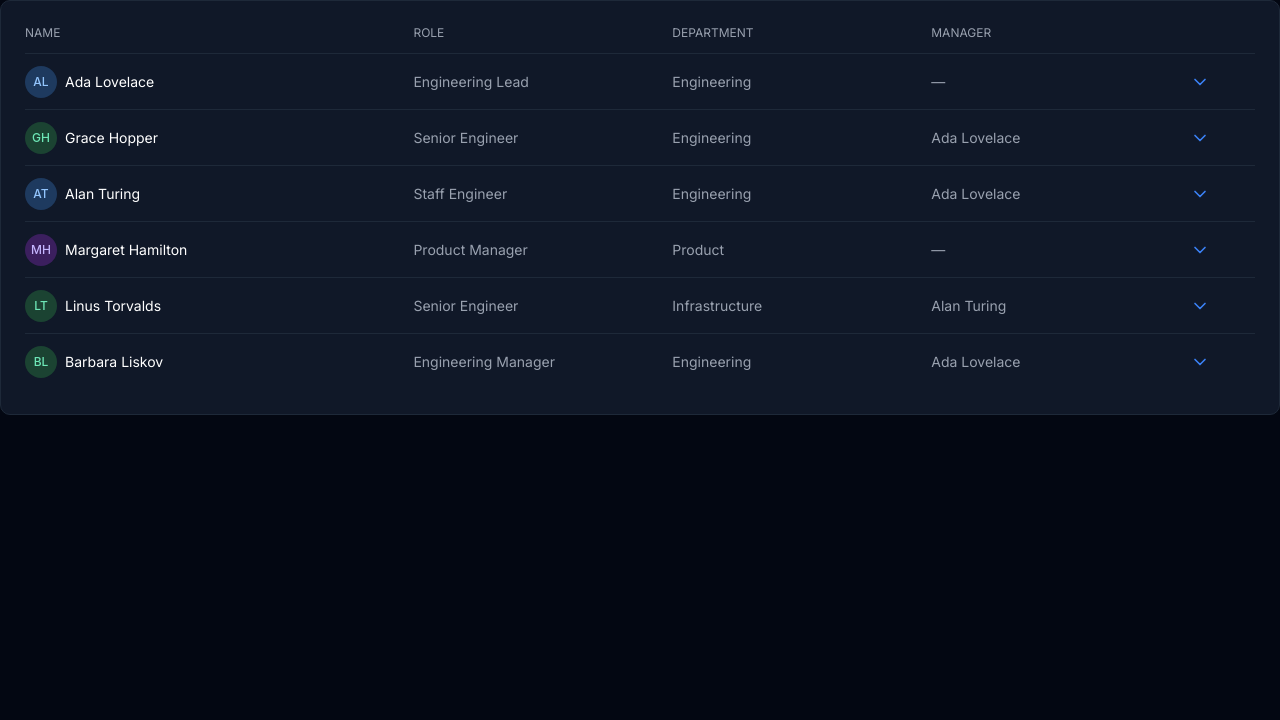
Accordion collapses previously open row when a new row is opened › expanding Grace Hopper collapses Ada Lovelace's panel
Expand Ada Lovelace
Click the button named "Expand Ada Lovelace". click: (1200, 82)
box: left=1190, top=72, right=1210, bottom=92
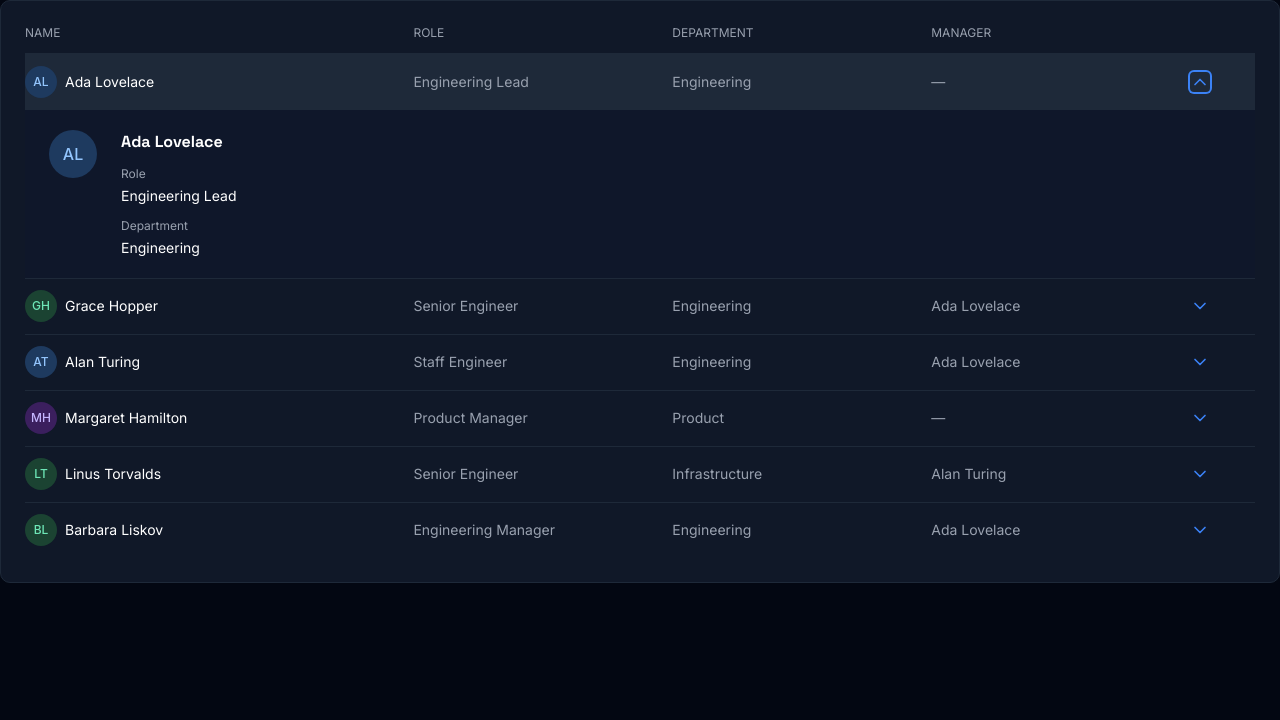
expect the cell with id "detail-emp-1" is shown: met, box left=25, top=110, right=1255, bottom=278
Expand Grace Hopper — Ada Lovelace should collapse
Click the button named "Expand Grace Hopper". click: (1200, 306)
box: left=1190, top=296, right=1210, bottom=316
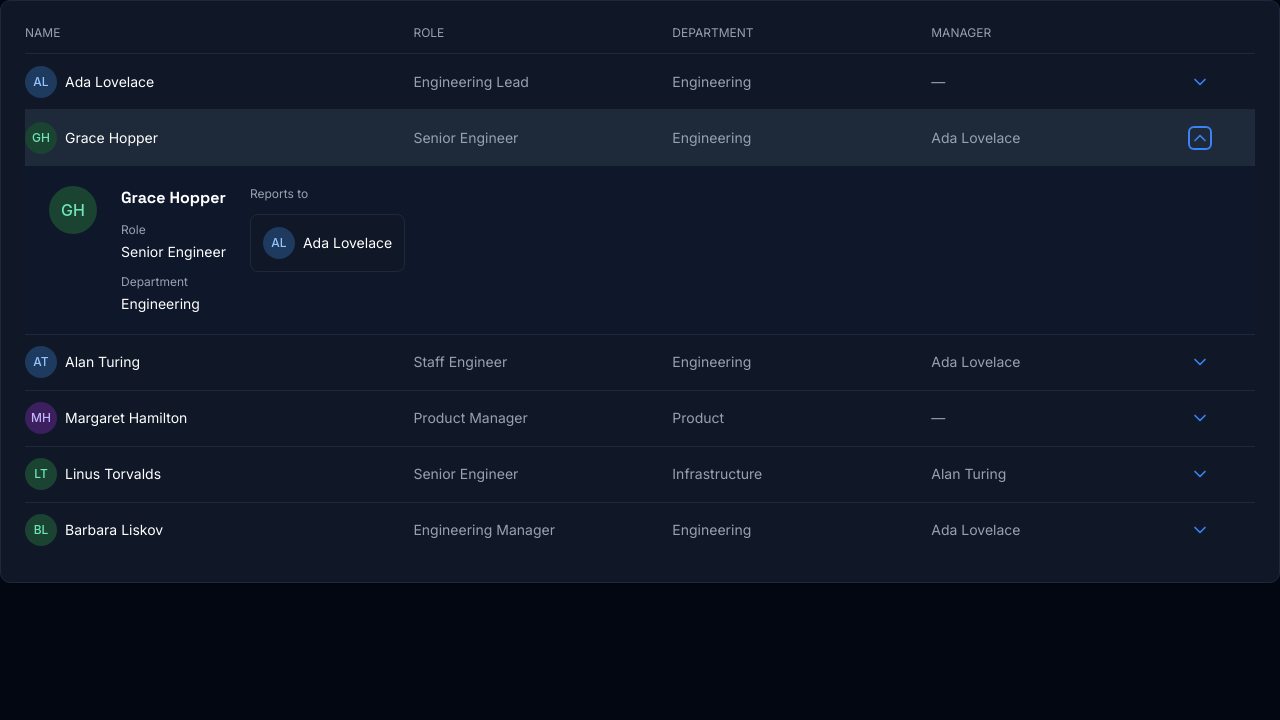
expect the cell with id "detail-emp-2" is shown: met, box left=25, top=166, right=1255, bottom=334
expect the cell with id "detail-emp-1" is gone: met
